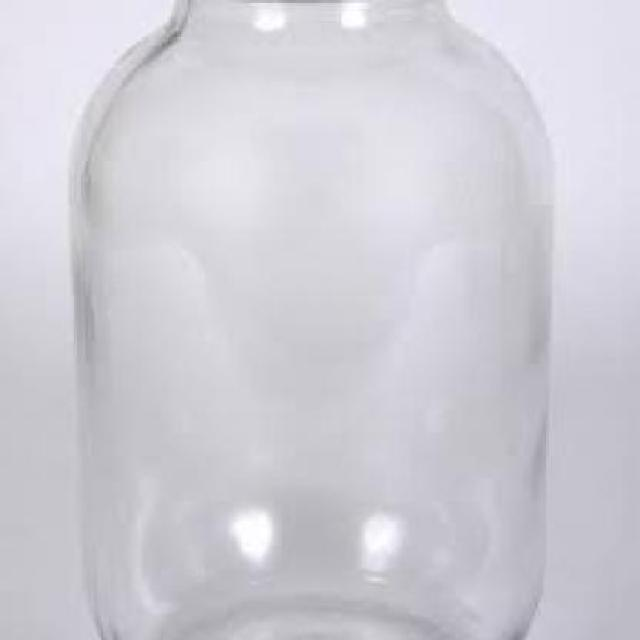GLASS: (69, 0, 548, 637)
